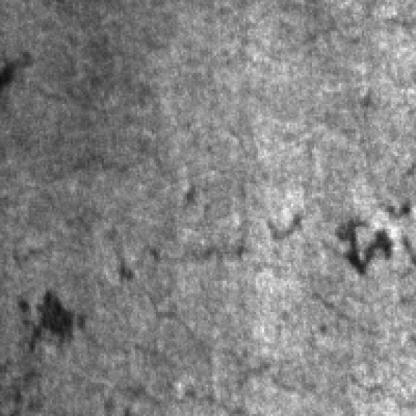crazing: (137, 283, 414, 395), (114, 202, 318, 278)
patches: (21, 281, 94, 347)
